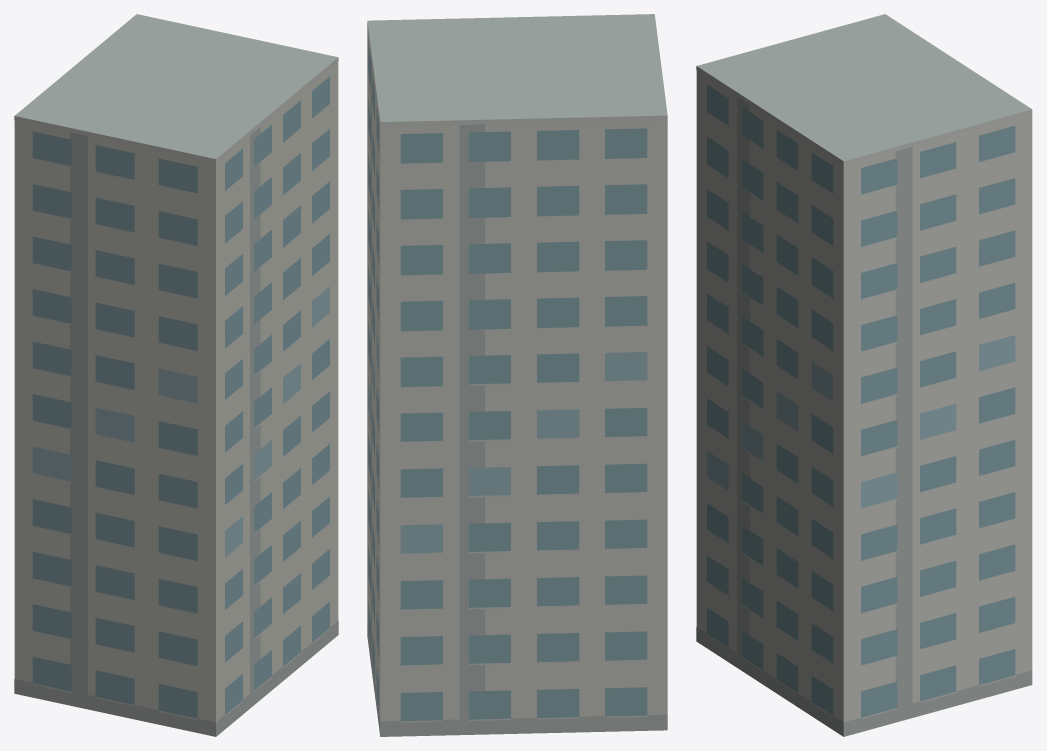
Rendered from residential-980bada2-ad52-494f-bcfd-31ec1051148f.glb.
The picture shows the model from 3 angles, left to right: view 1: azimuth 30°, elevation 25°; view 2: azimuth 150°, elevation 25°; view 3: azimuth 270°, elevation 25°; orthographic projection. The views are drawn at different scales.
Parts seen in each view (by area): view 1: residential-980bada2-ad52-494f-bcfd-31ec1051148f.tmp; view 2: residential-980bada2-ad52-494f-bcfd-31ec1051148f.tmp; view 3: residential-980bada2-ad52-494f-bcfd-31ec1051148f.tmp.
Boxes of the visible parts, x1,y1,x2,y2 form: residential-980bada2-ad52-494f-bcfd-31ec1051148f.tmp: (14,14,338,736); residential-980bada2-ad52-494f-bcfd-31ec1051148f.tmp: (367,14,667,736); residential-980bada2-ad52-494f-bcfd-31ec1051148f.tmp: (696,14,1032,736).
Size of the model in its own units: 17.58 by 32 by 16.93.
